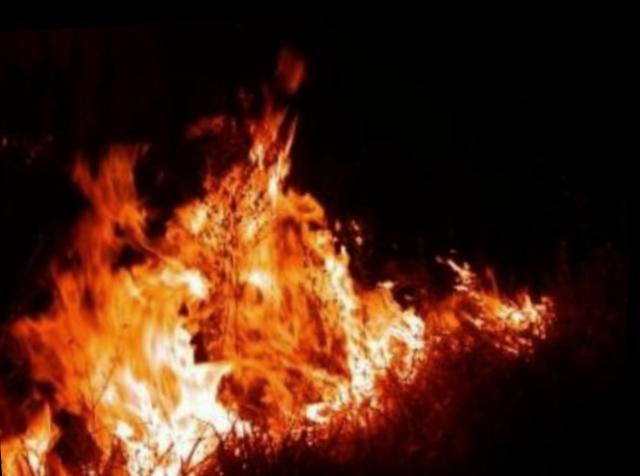fire: (0, 48, 588, 473)
